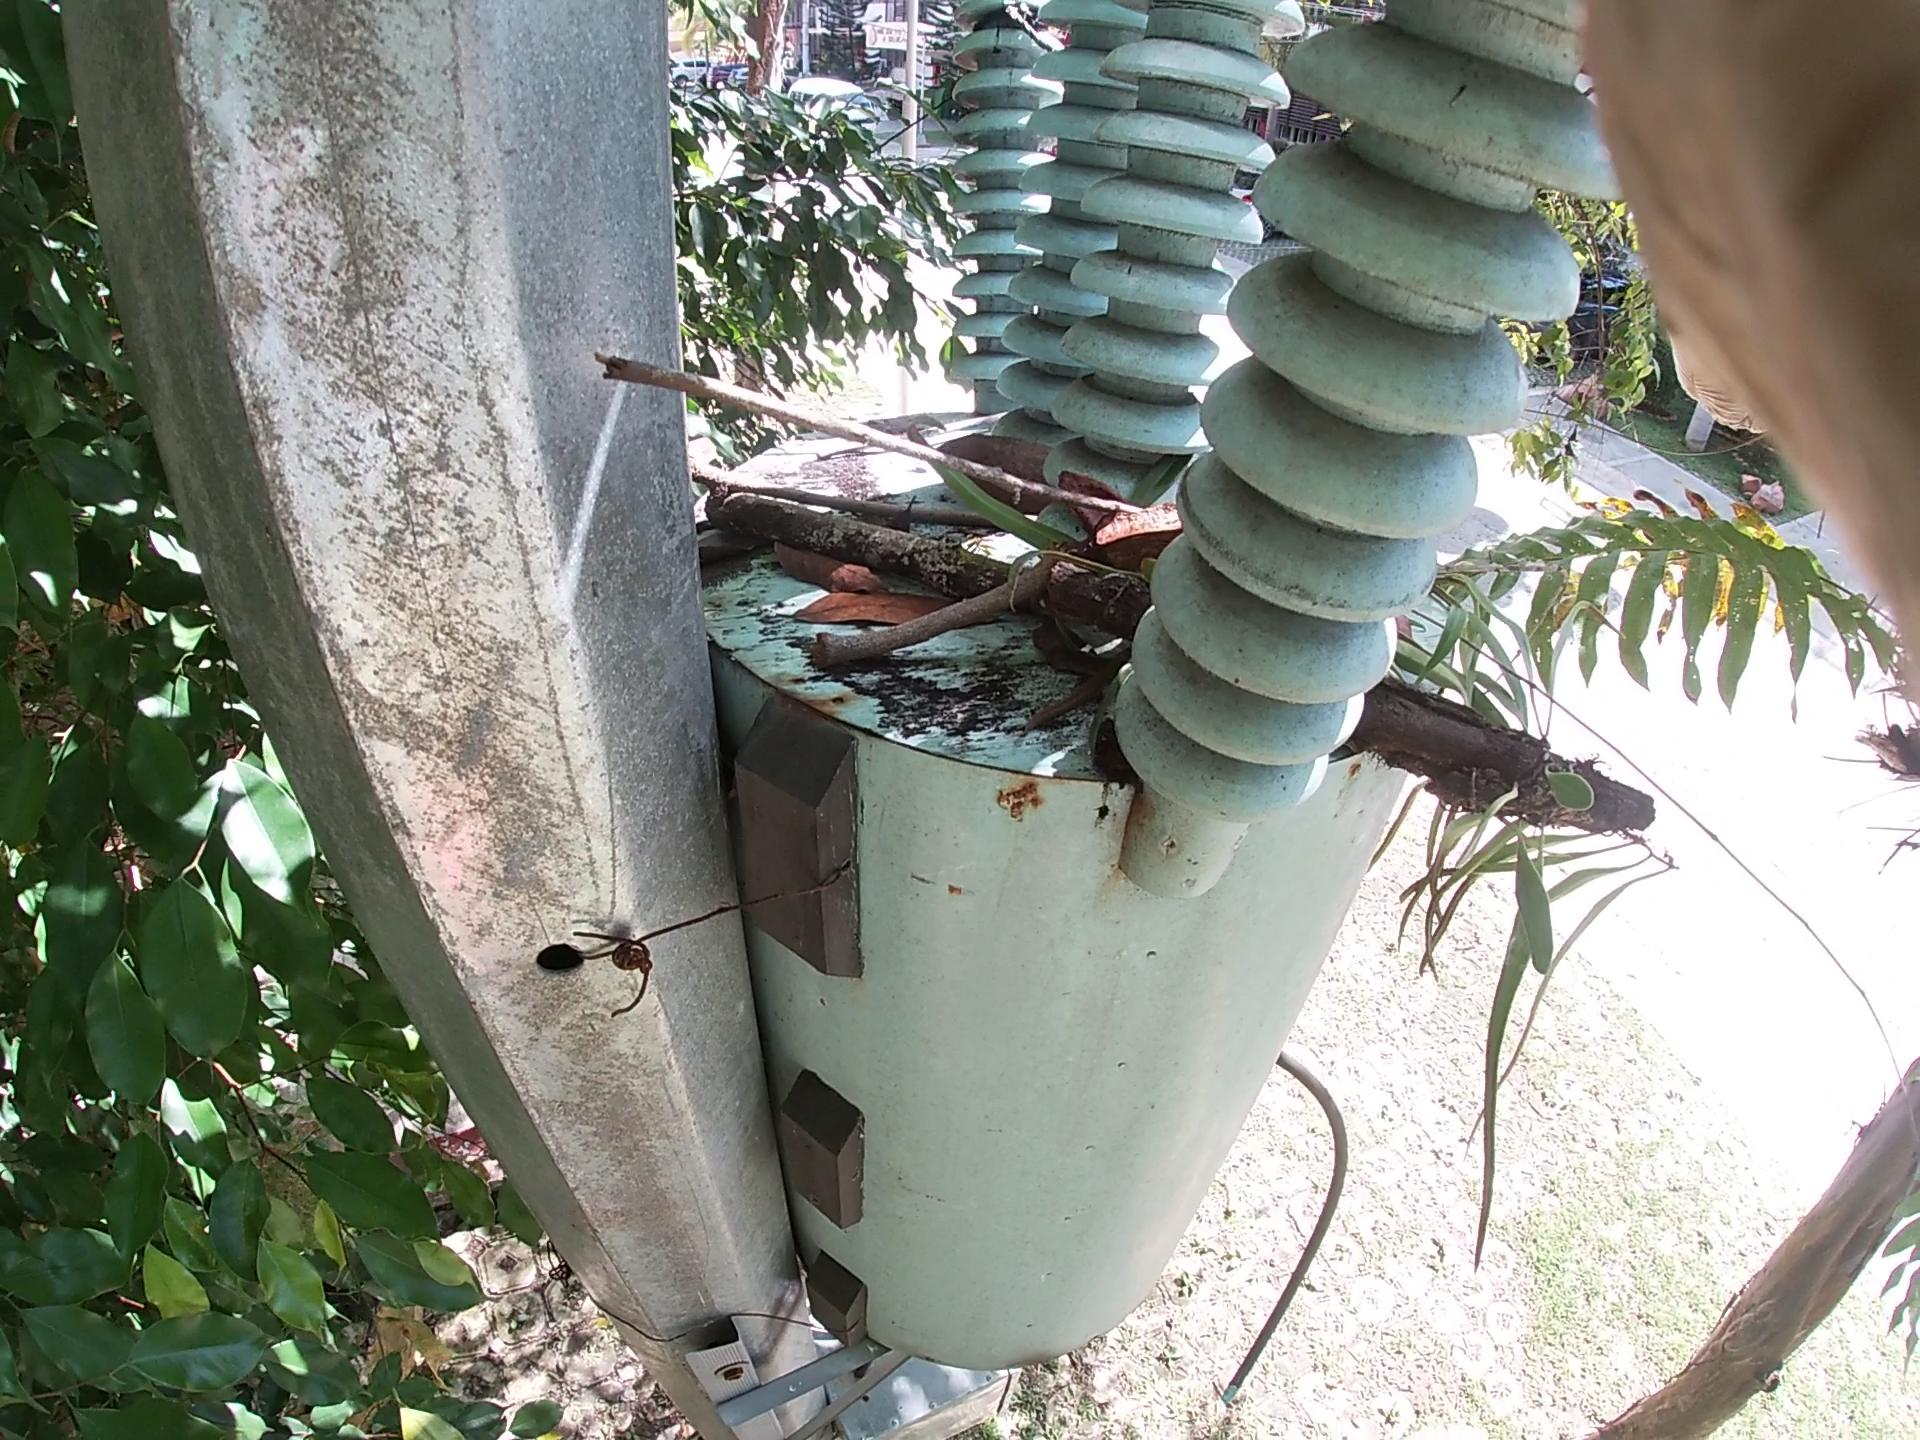branch with leaves: (730, 479, 1701, 902)
leaf: (785, 587, 977, 628), (766, 537, 884, 588)
mahogany fruit: (968, 421, 1321, 569)
tree branch: (597, 340, 1175, 570), (801, 554, 1073, 672), (686, 458, 1008, 554)
